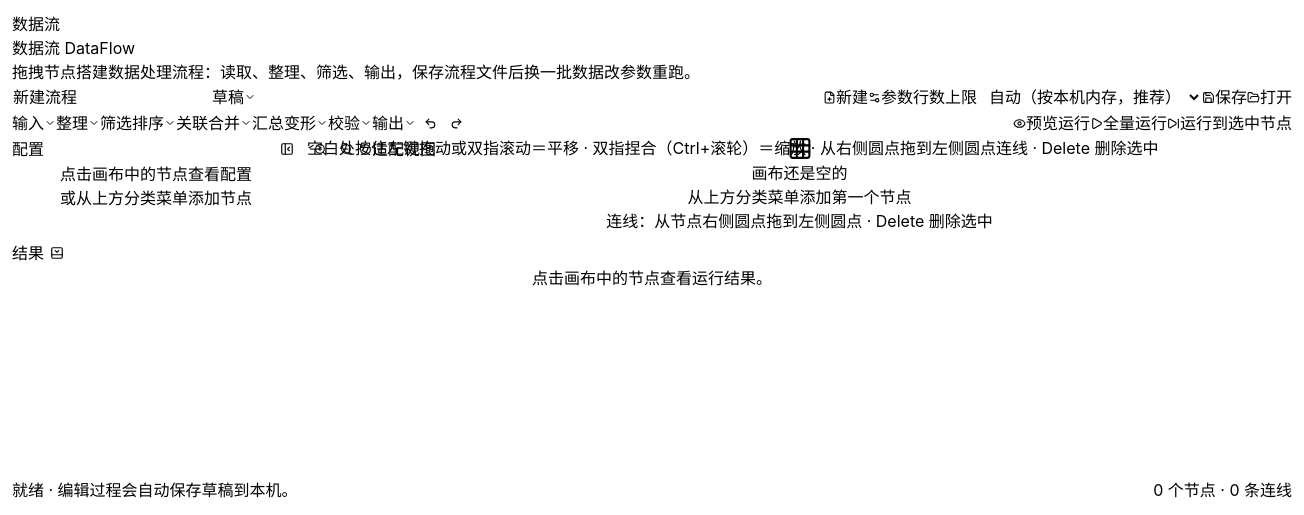
Scenario: 空画布点预览运行，结果区显示「画布还没有节点」错误卡而非静默无反应
Click the button "预览运行": coordinates (1052, 123) [1013, 110, 1090, 136]
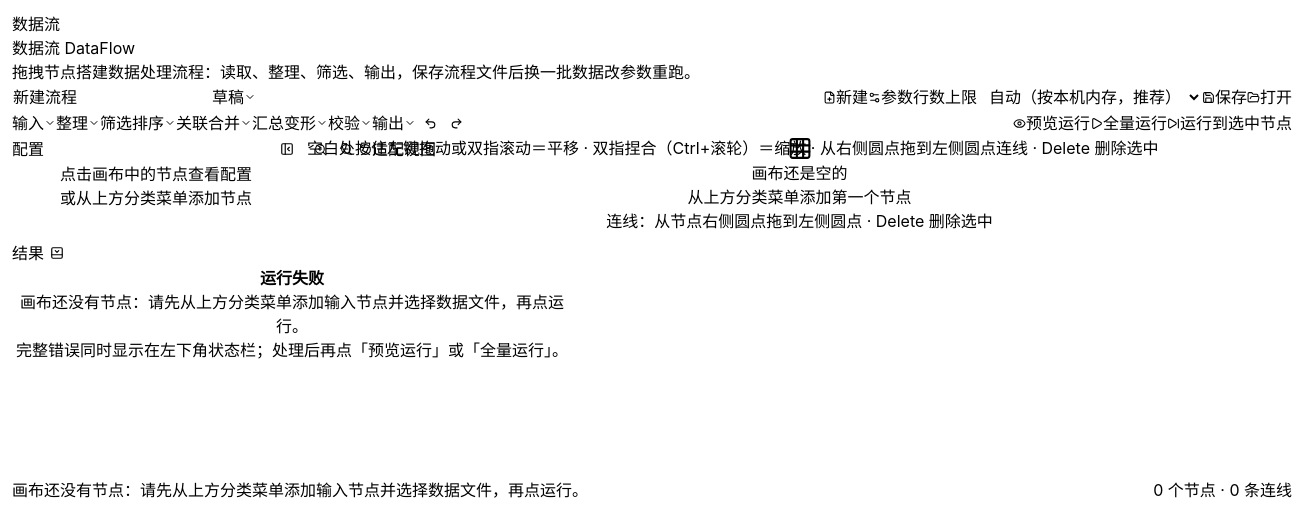
Now the message shows "画布还没有节点", box [20, 292, 564, 336]
